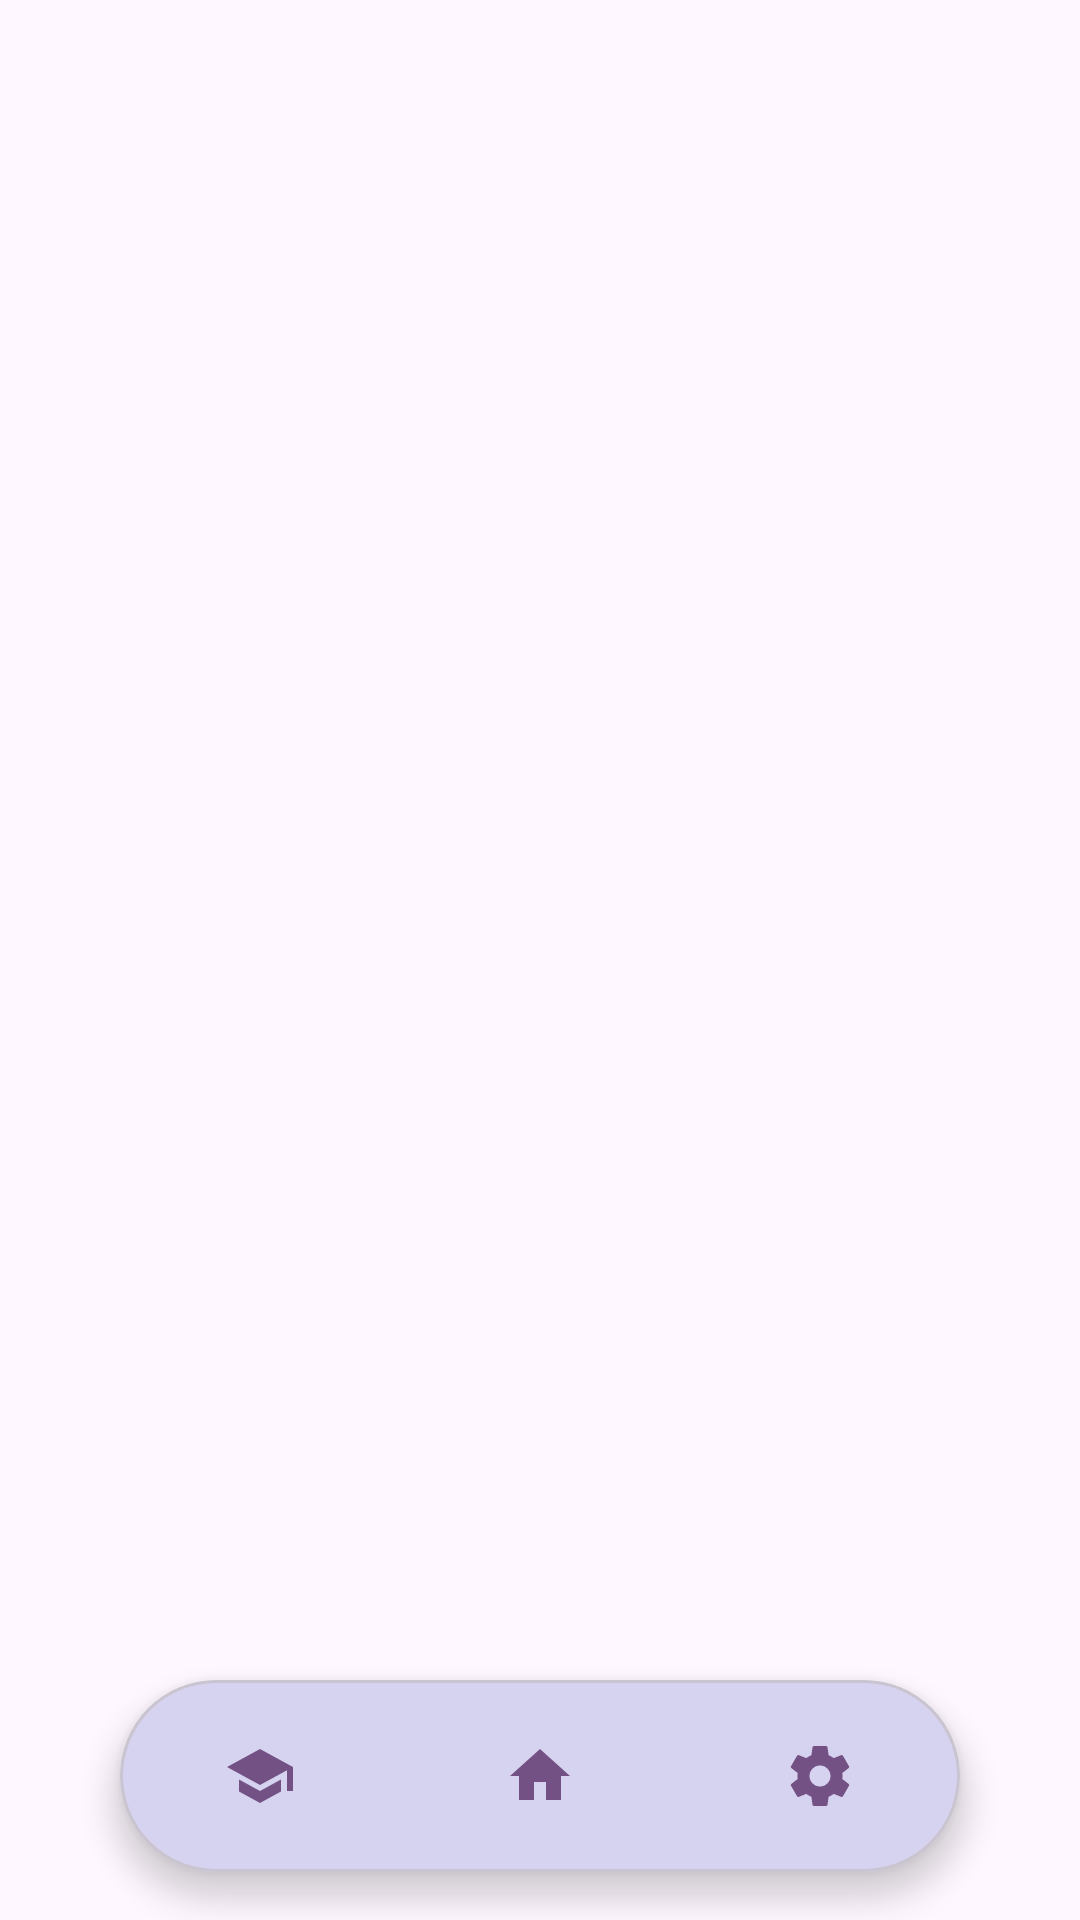

Icon click points for this 1080*1920 phone screenshot, format (x=x, y=y):
home vec: (x=540, y=1776)
school vec: (x=260, y=1776)
settings vec: (x=820, y=1776)
